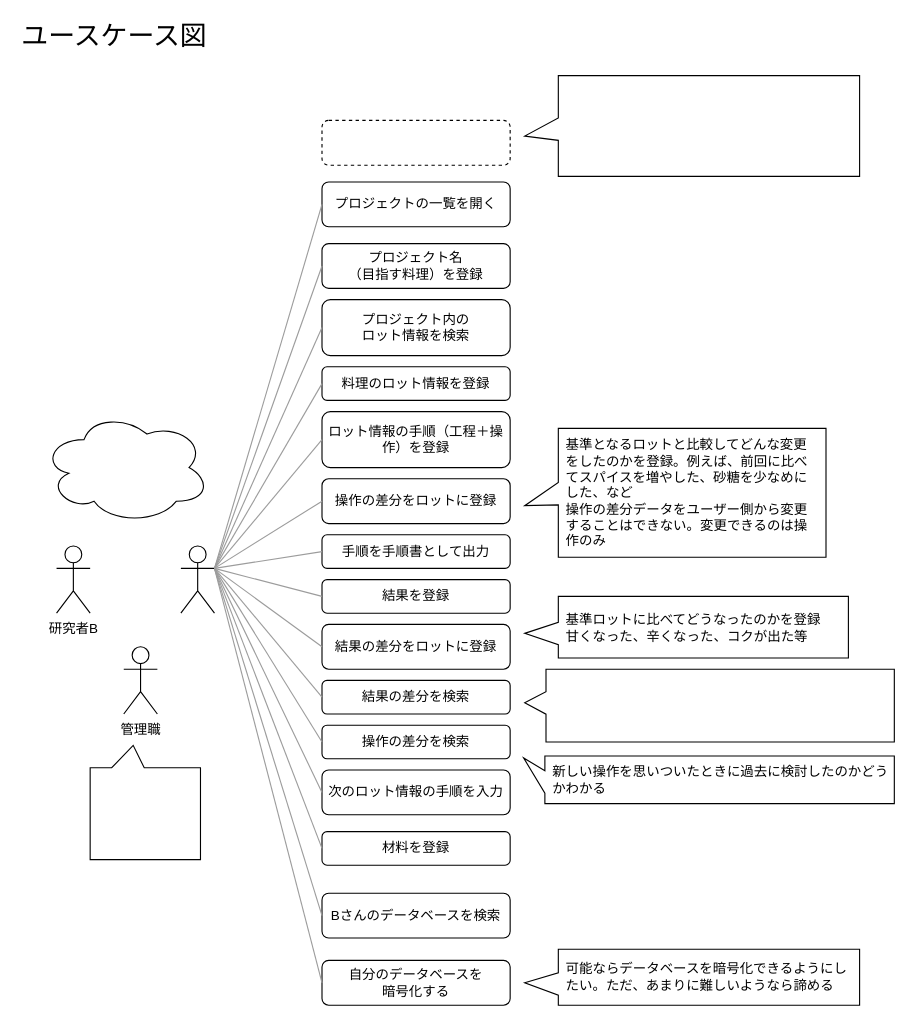
This 914x1025 diagram has some shape labels left out. The shapes that lost their labels are listed below. From the top down, each one's centre as x and y in pixels, then its label:
At point (415, 142): "ログイン".
At point (692, 125): "今回のデータベースではログインはスコープ外にする。クラウドよりもファイルサーバー上にデータベースがある方が研究者にとっては好ましいと思われる。".
At point (125, 467): "より良い料理の 作り方を研究".
At point (197, 579): "研究者A".
At point (709, 705): "たとえば、より甘くしたい、より辛くしたいという要望が出てきたときに結果の差分を検索すれば、それに紐付いた操作の差分がわかる。".
At point (144, 802): "管理職であっても研究者と同じユースケースしか持たない".
